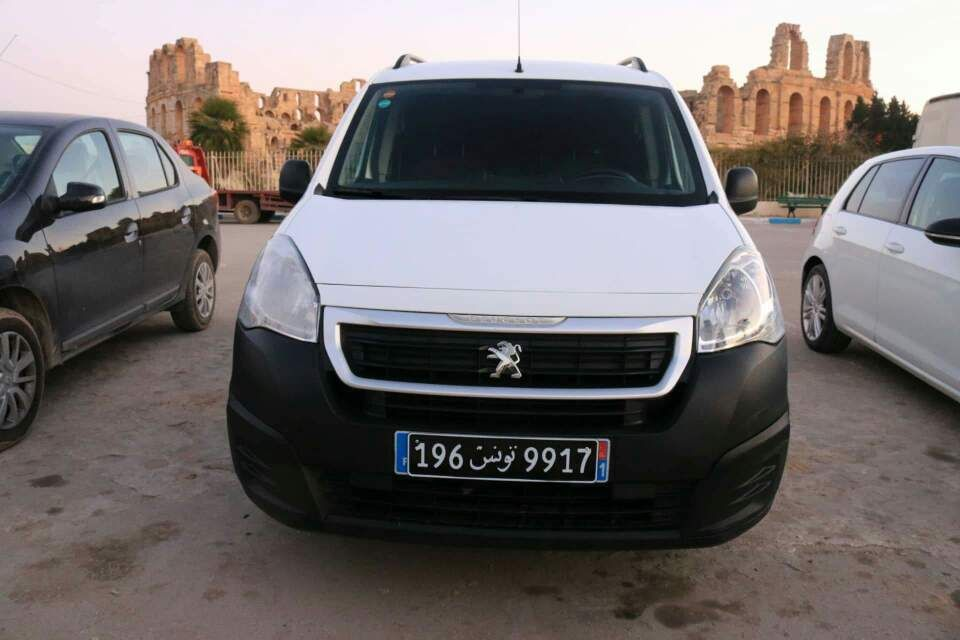LP: (404, 429, 604, 485)
